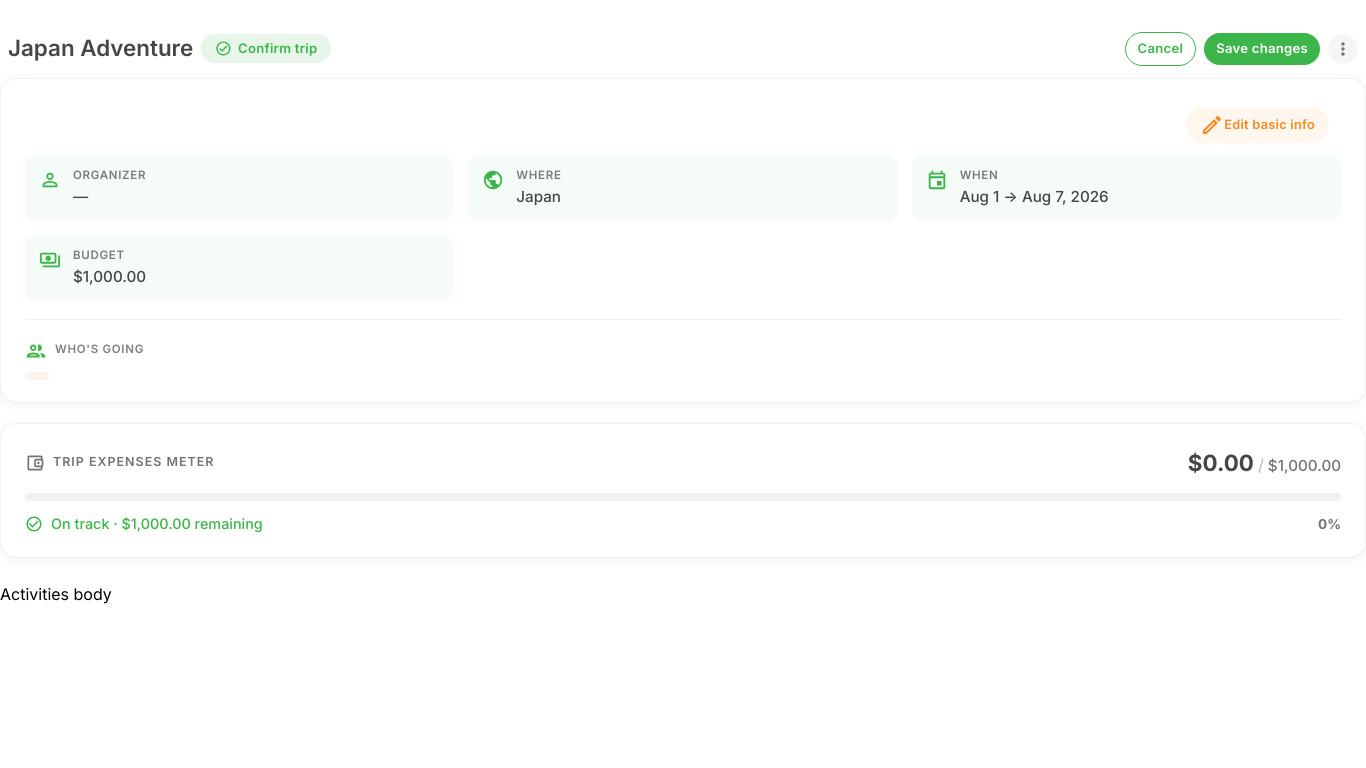
Test: StepperComp — edit mode › dismisses the confirm dialog with "Keep trip"
The width and height of the screenshot is (1366, 768).
Click the button named "more actions" at (1343, 49), box [1328,34,1358,64]
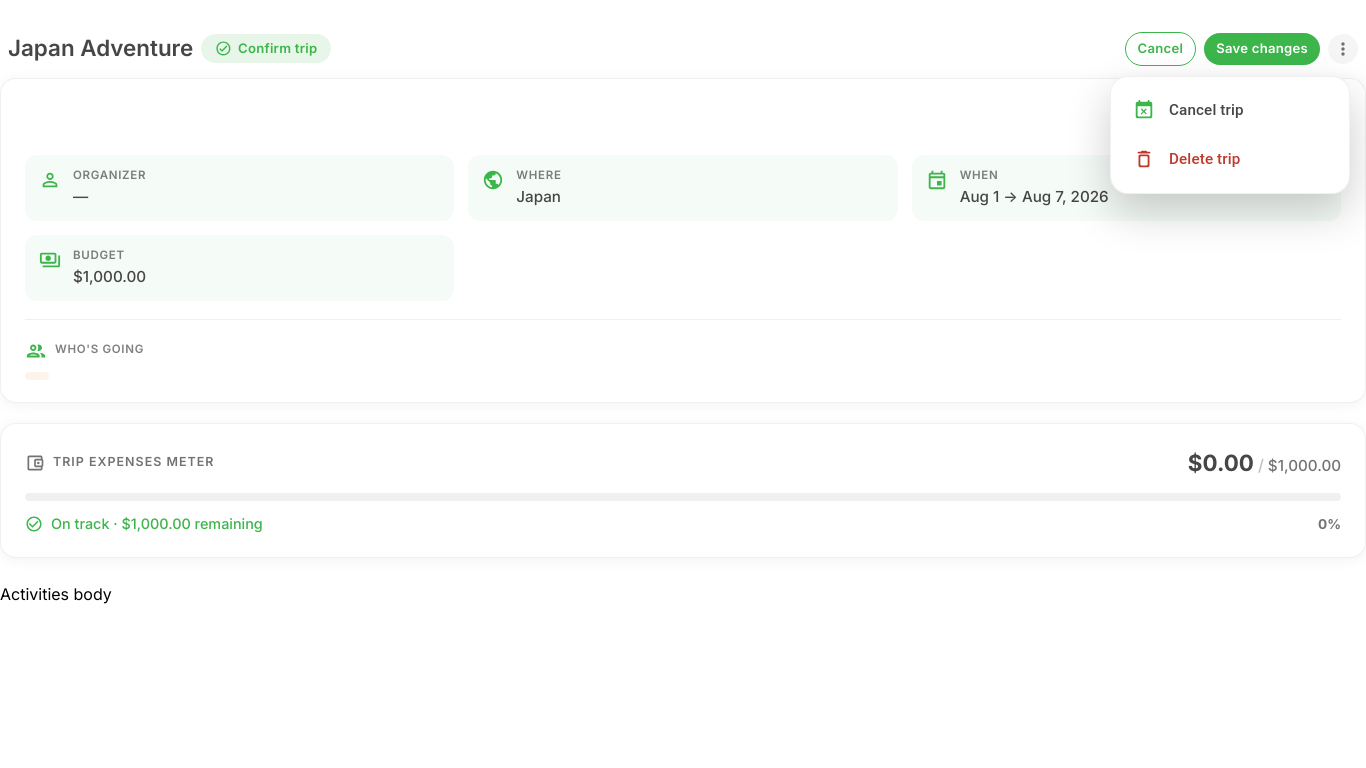
Click the menu item "Delete trip" at (1187, 159), box [1133,148,1240,170]
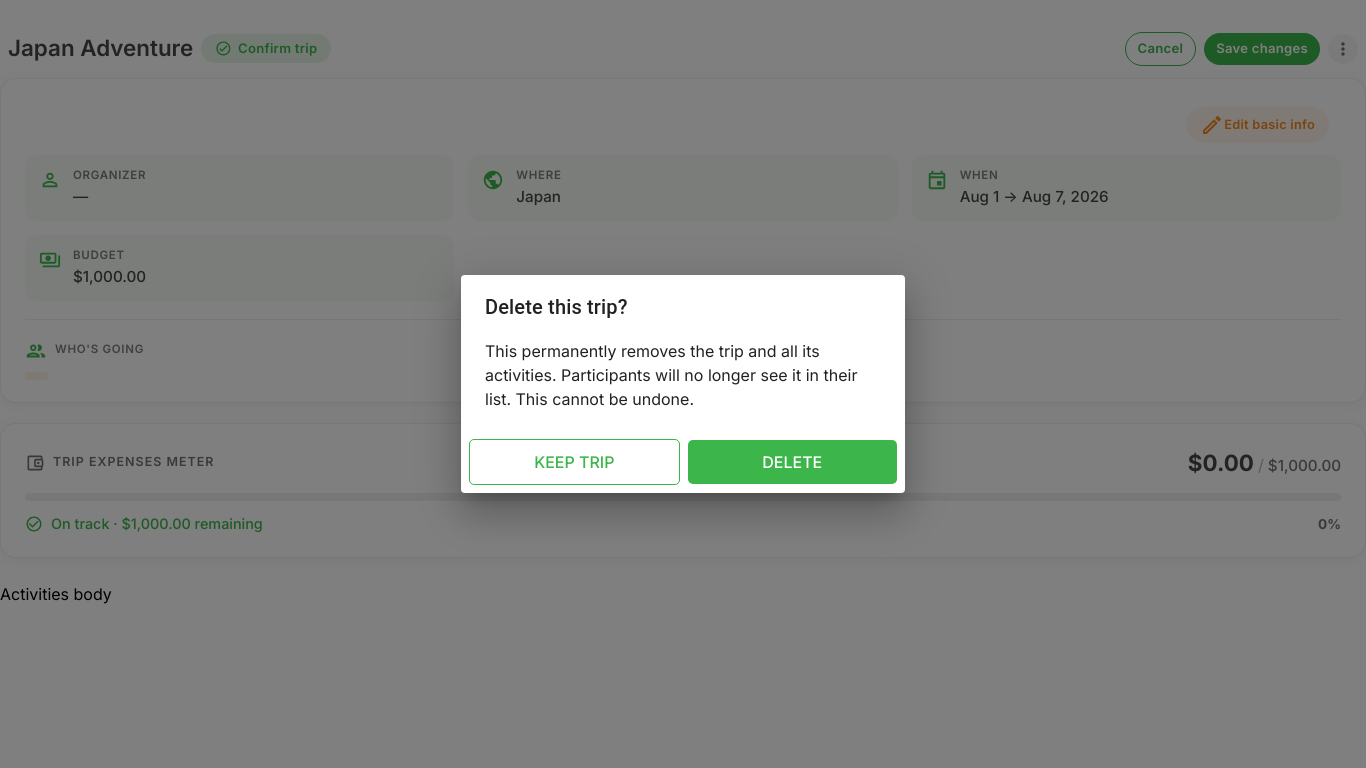
Check: the dialog is shown, box [461,275,905,493]
Click the button "Keep trip" at (574, 462), box [469,439,680,485]
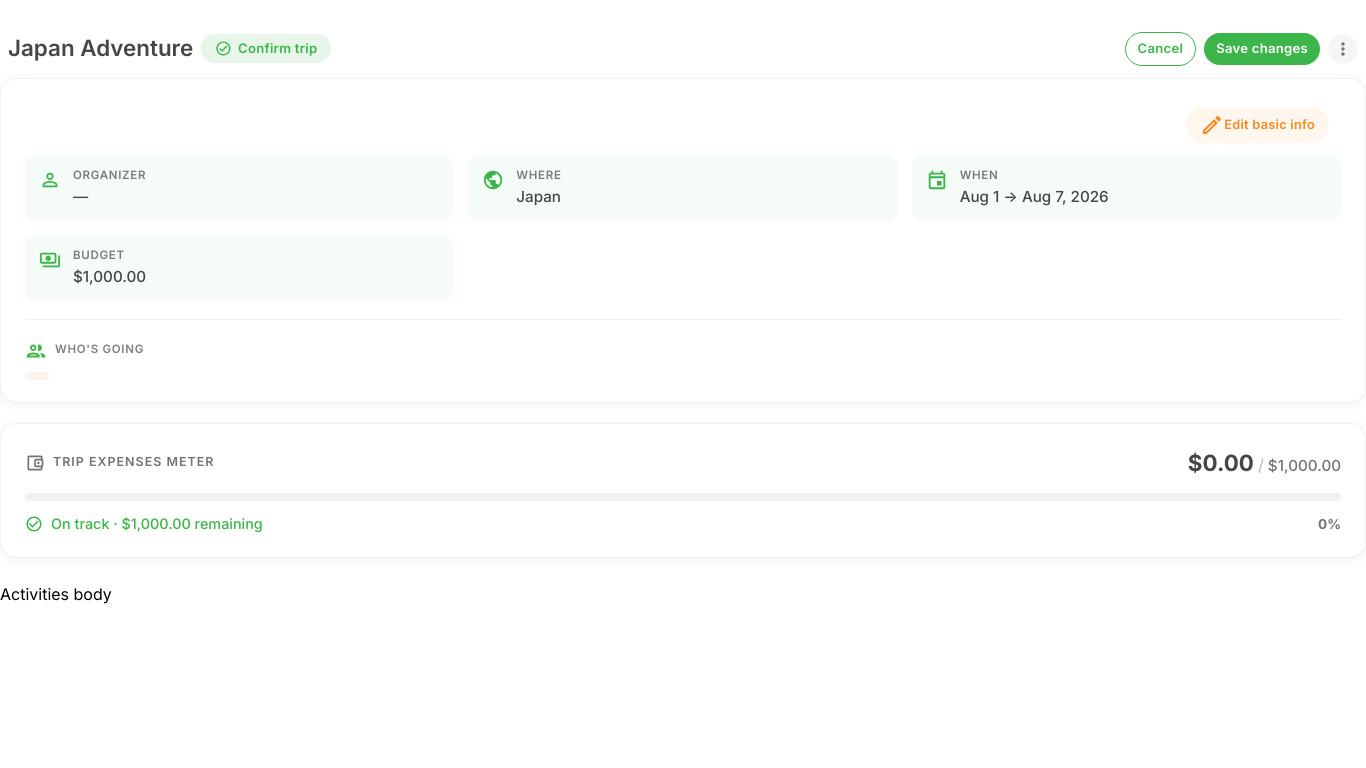
Check: the dialog is gone
